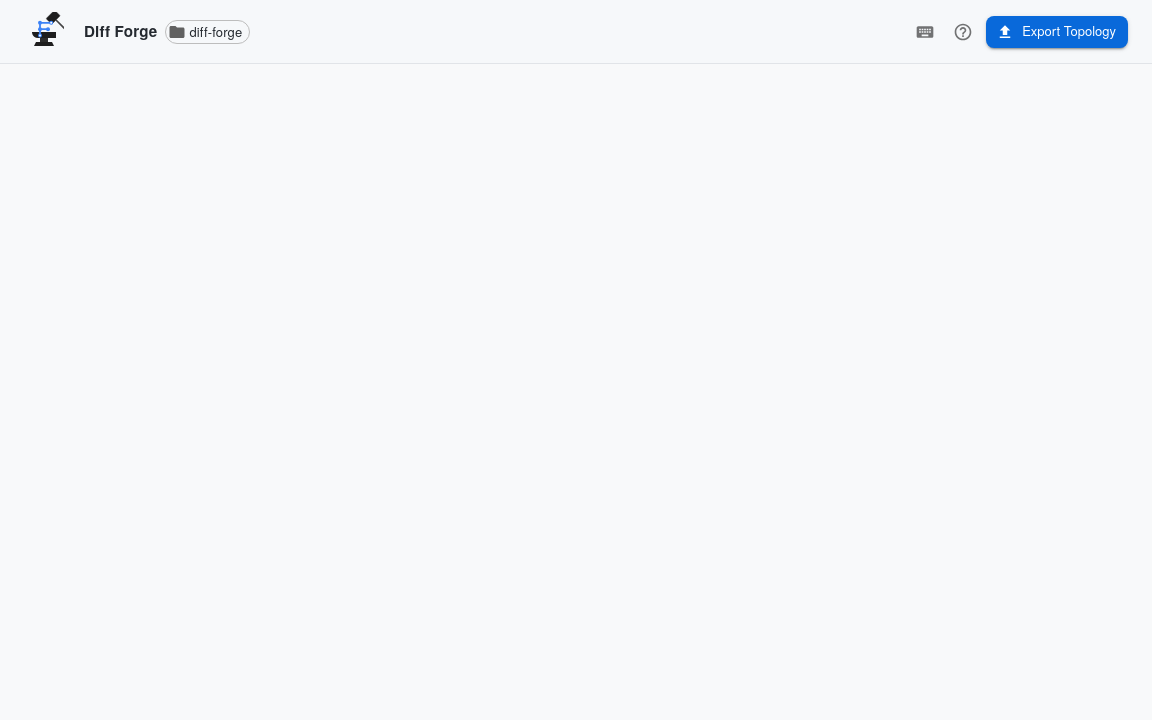
Test case: Topbar › opens about dialog from info icon
Click the button named "about": {"x": 963, "y": 32} left=948, top=16, right=978, bottom=46
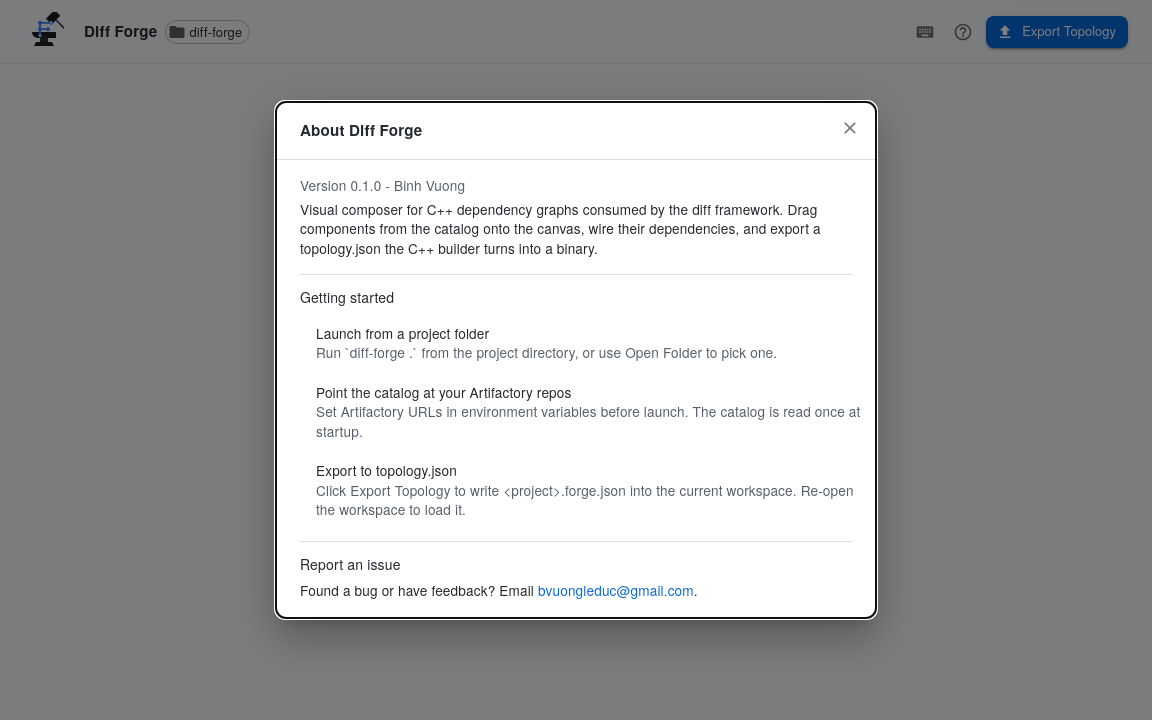
Expected: the heading "About Diff Forge" is shown, left=276, top=102, right=876, bottom=159
